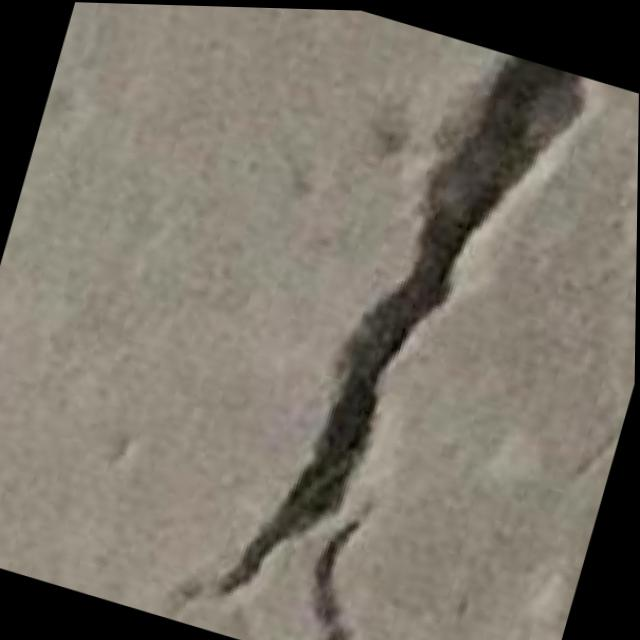Crack: (227, 15, 599, 640)
